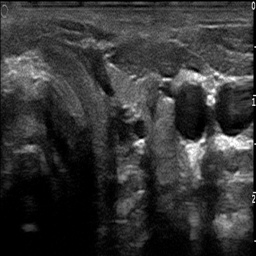mass: (145, 76, 162, 116)
